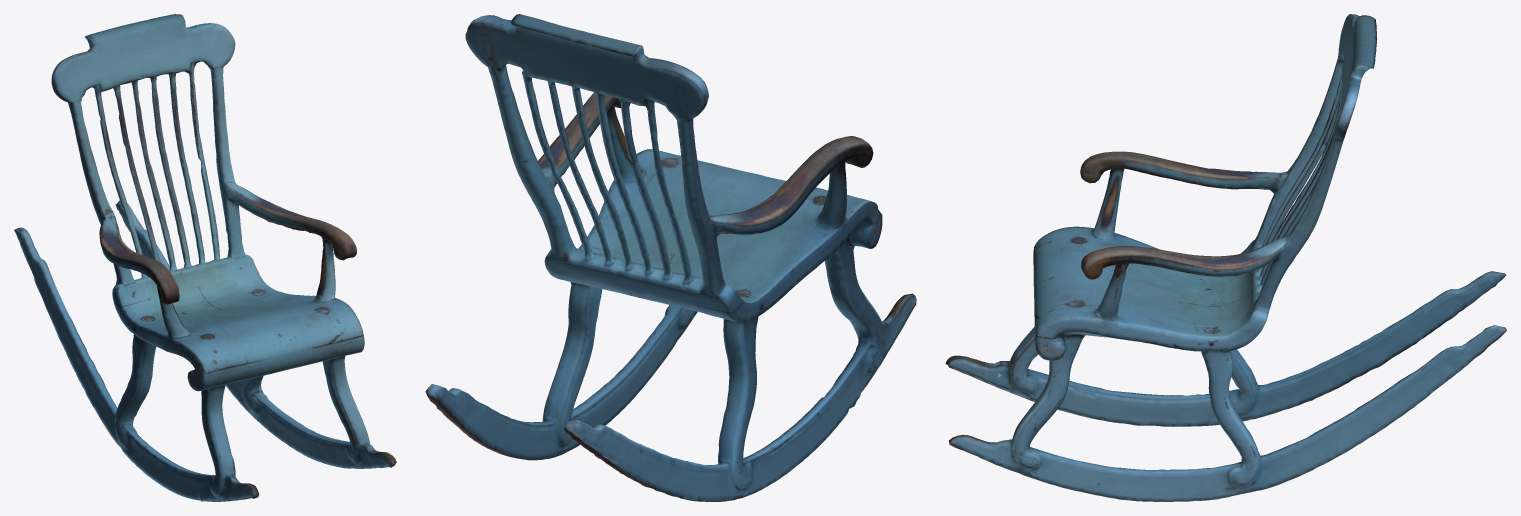
The model's file is rocking_chair.glb.
The picture shows the model from 3 angles, left to right: view 1: azimuth 30°, elevation 25°; view 2: azimuth 150°, elevation 25°; view 3: azimuth 270°, elevation 25°; orthographic projection. The views are drawn at different scales.
Parts seen in each view (by area): view 1: Object_2; view 2: Object_2; view 3: Object_2.
Boxes of the visible parts, x1,y1,x2,y2 form: Object_2: (14, 14, 396, 501); Object_2: (425, 14, 916, 501); Object_2: (945, 14, 1506, 501).
Size of the model in its own units: 4.09 by 7.61 by 9.17.
Materials: 1 (1 with a texture image).
